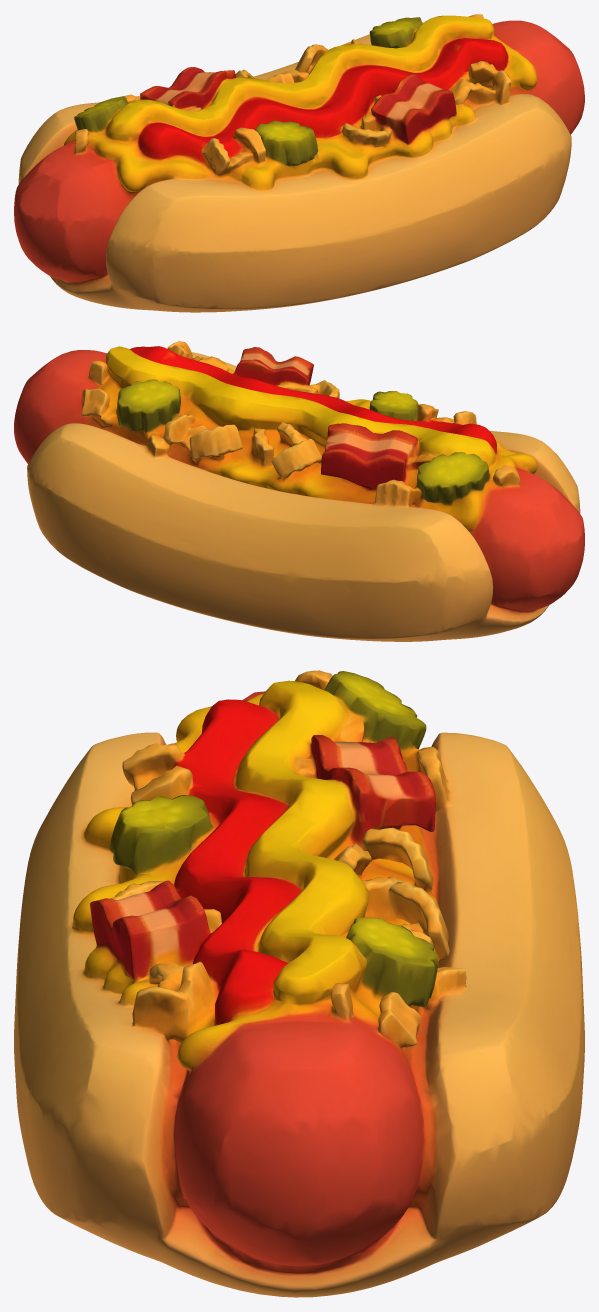
Rendered from hot dog premium.glb.
The picture shows the model from 3 angles, top to bottom: view 1: azimuth 30°, elevation 25°; view 2: azimuth 150°, elevation 25°; view 3: azimuth 270°, elevation 25°; orthographic projection. The views are drawn at different scales.
Parts seen in each view (by area): view 1: tripo_node_56aa17bd-20ea-4ea9-958c-71eee717d96b; view 2: tripo_node_56aa17bd-20ea-4ea9-958c-71eee717d96b; view 3: tripo_node_56aa17bd-20ea-4ea9-958c-71eee717d96b.
Boxes of the visible parts, x1,y1,x2,y2 form: tripo_node_56aa17bd-20ea-4ea9-958c-71eee717d96b: [14, 14, 584, 312]; tripo_node_56aa17bd-20ea-4ea9-958c-71eee717d96b: [14, 341, 584, 641]; tripo_node_56aa17bd-20ea-4ea9-958c-71eee717d96b: [14, 670, 584, 1297].
Bounding box in the file's own units: 1 × 0.3473 × 0.5217.
Materials: 1 (1 with a texture image).
